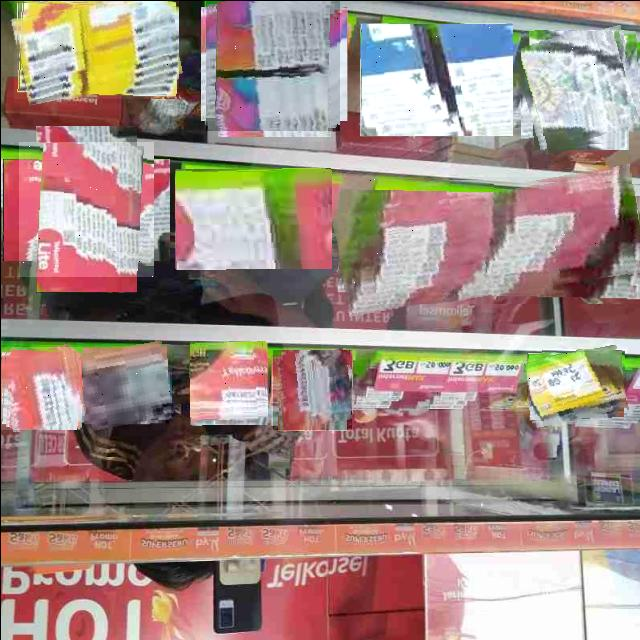Axis: (520, 30, 640, 148)
Gratis Nelpon: (360, 23, 512, 135)
Indosat-3: (205, 0, 339, 130)
Telkomsel: (333, 176, 640, 303), (18, 141, 153, 276), (175, 168, 331, 268), (81, 343, 171, 426), (0, 346, 81, 429), (189, 341, 267, 424), (272, 349, 351, 429)
im3: (13, 0, 178, 98), (526, 348, 626, 423)
